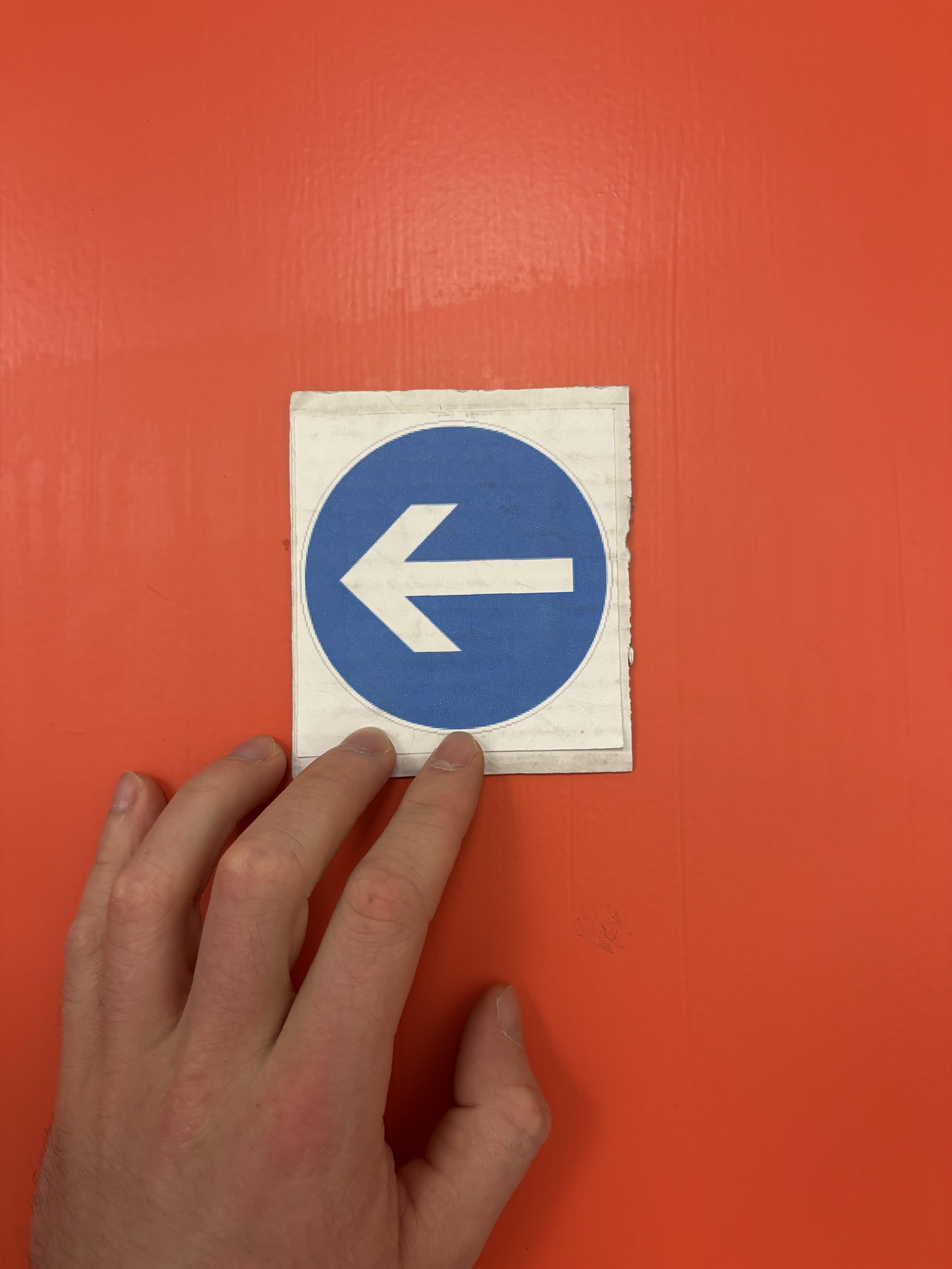Proceed Left: (220, 514, 477, 1042)
